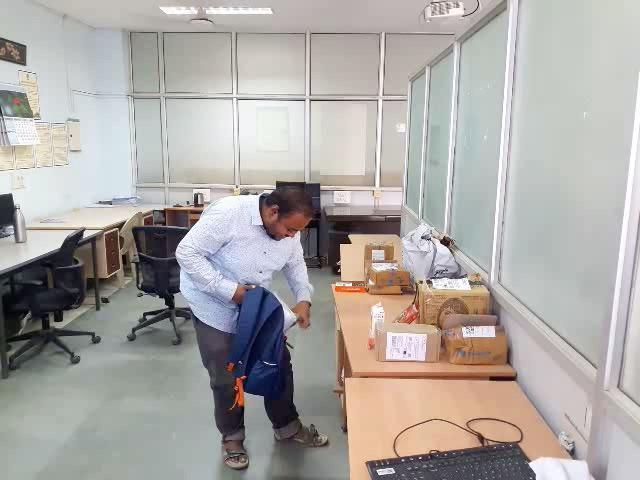shoplifting: (136, 255, 389, 429)
